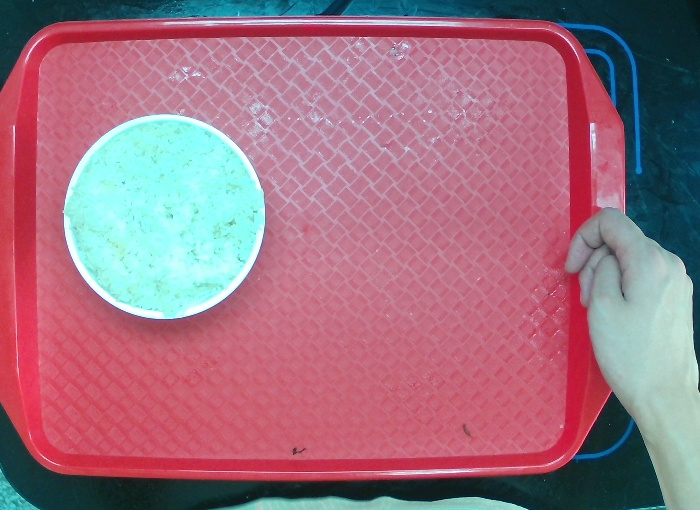YKMZ-Fan_Wan: (58, 111, 266, 322)
